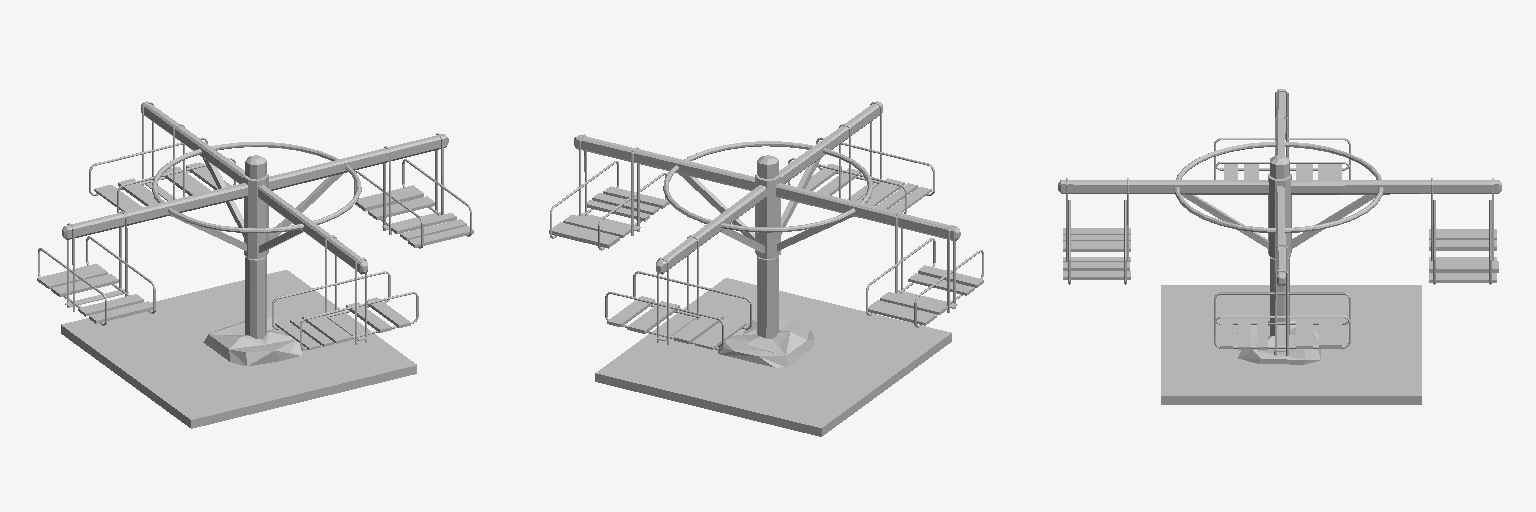
The model's file is carousel.obj.
3 views of the same model, side by side, from view 1: azimuth 30°, elevation 25°; view 2: azimuth 150°, elevation 25°; view 3: azimuth 270°, elevation 25° (orthographic).
Visible parts, largest first — view 1: Plane_0, carousel_body_0, carousel_body_2, carousel_body_1, carousel_concrete_base_0, carousel_base_0; view 2: Plane_0, carousel_body_0, carousel_body_2, carousel_body_1, carousel_concrete_base_0, carousel_base_0; view 3: Plane_0, carousel_body_0, carousel_body_2, carousel_body_1, carousel_concrete_base_0, carousel_base_0.
Part boxes in pixels (bbox=[...]): Plane_0: bbox=[61, 270, 416, 428]; carousel_body_0: bbox=[62, 101, 448, 340]; carousel_body_2: bbox=[37, 162, 473, 349]; carousel_body_1: bbox=[38, 102, 471, 349]; carousel_concrete_base_0: bbox=[203, 316, 302, 365]; carousel_base_0: bbox=[245, 155, 266, 338]; Plane_0: bbox=[595, 278, 951, 436]; carousel_body_0: bbox=[574, 101, 960, 340]; carousel_body_2: bbox=[549, 164, 983, 349]; carousel_body_1: bbox=[550, 102, 983, 349]; carousel_concrete_base_0: bbox=[718, 319, 814, 367]; carousel_base_0: bbox=[757, 155, 778, 338]; Plane_0: bbox=[1161, 285, 1421, 404]; carousel_body_0: bbox=[1058, 89, 1501, 351]; carousel_body_2: bbox=[1063, 164, 1498, 349]; carousel_body_1: bbox=[1066, 90, 1493, 355]; carousel_concrete_base_0: bbox=[1237, 321, 1320, 364]; carousel_base_0: bbox=[1270, 155, 1289, 335].
Bounding box in the file's own units: 30.26 × 14.89 × 30.25.